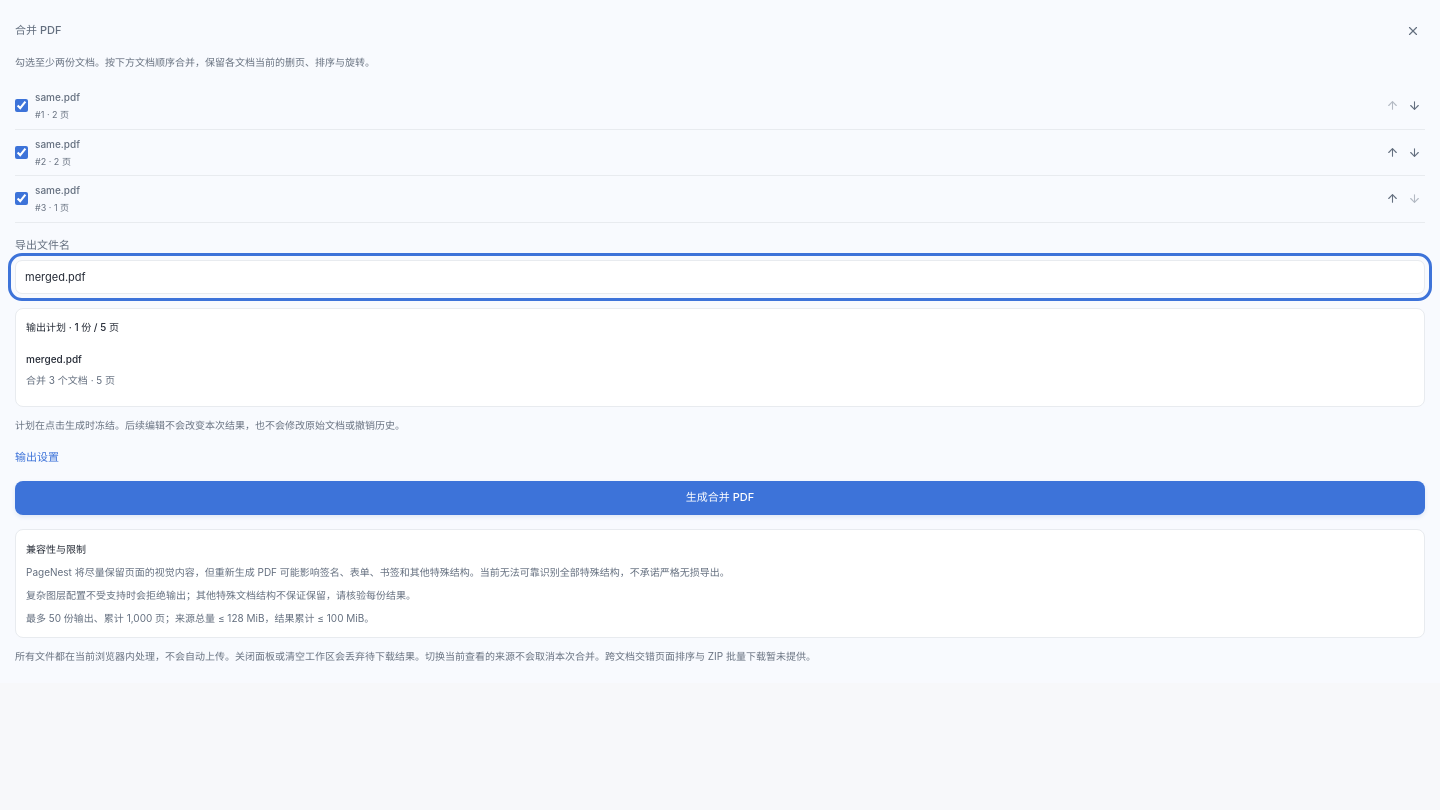
Test: PDF merge and split operation panel › previews selected same-name documents in user-defined order and keeps each current edit mapping
The width and height of the screenshot is (1440, 810).
Later steps or results of the test are not shown.
Step 1. Click the checkbox named "合并 same.pdf（文件 3）" → [22, 199], box top-left (15, 192), bottom-right (28, 205)
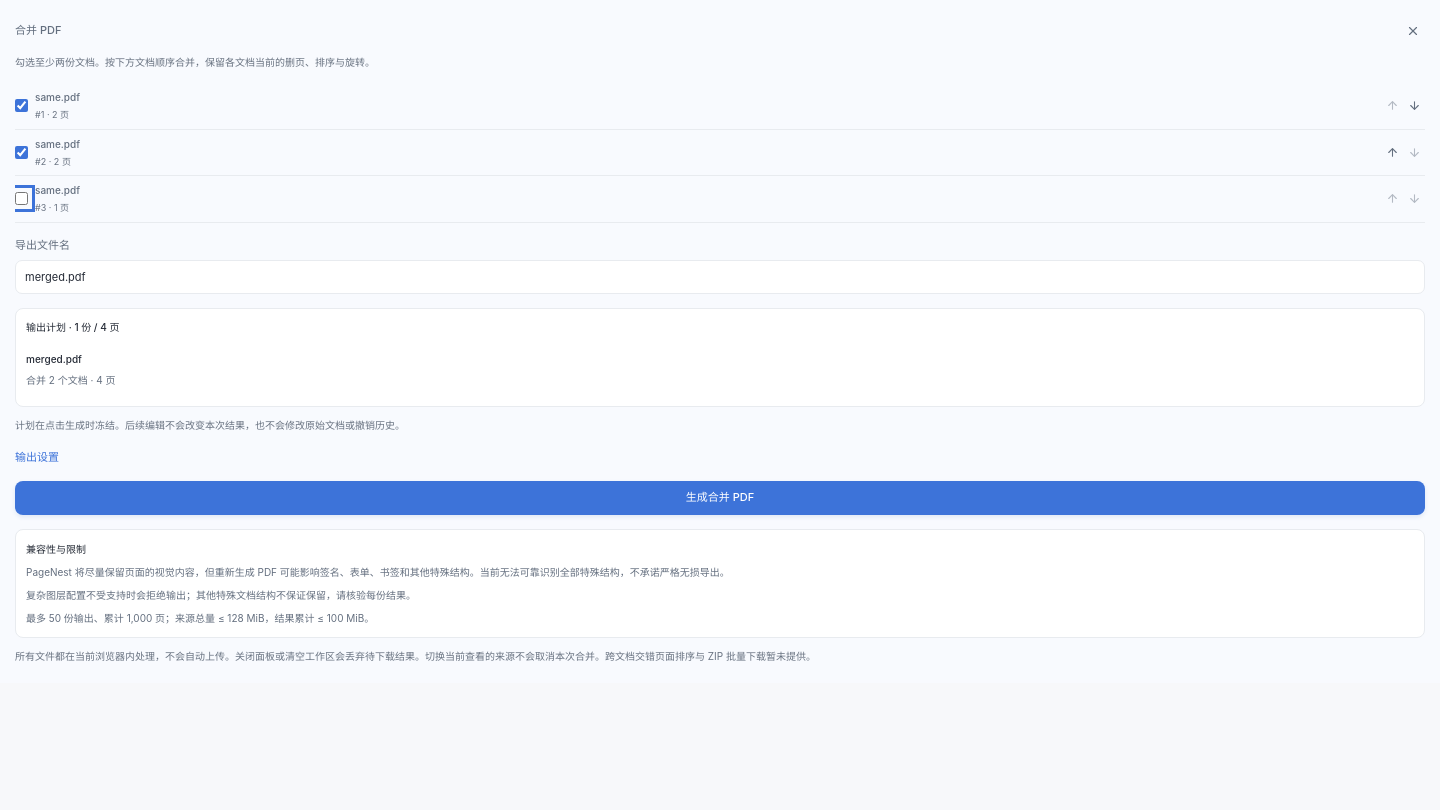
Step 2. Click the button named "same.pdf（文件 2）上移" → [1392, 152], box top-left (1381, 139), bottom-right (1403, 165)
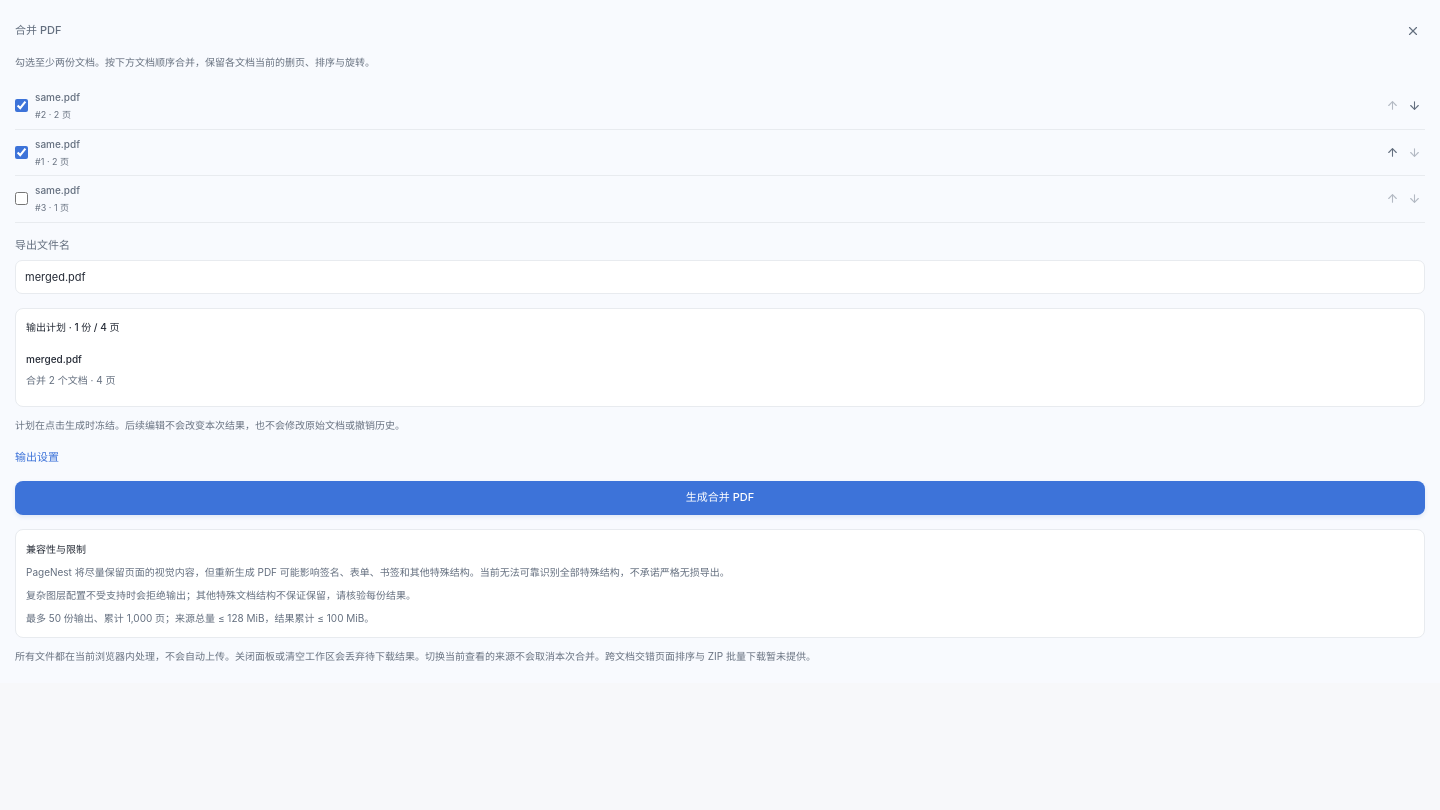
Check: the heading "输出计划 · 1 份 / 4 页" is shown, box top-left (26, 321), bottom-right (120, 333)
Step 3. Replace the text in the field labelled "导出文件名" with "merged/new?.pdf" → [720, 277], box top-left (15, 260), bottom-right (1425, 294)
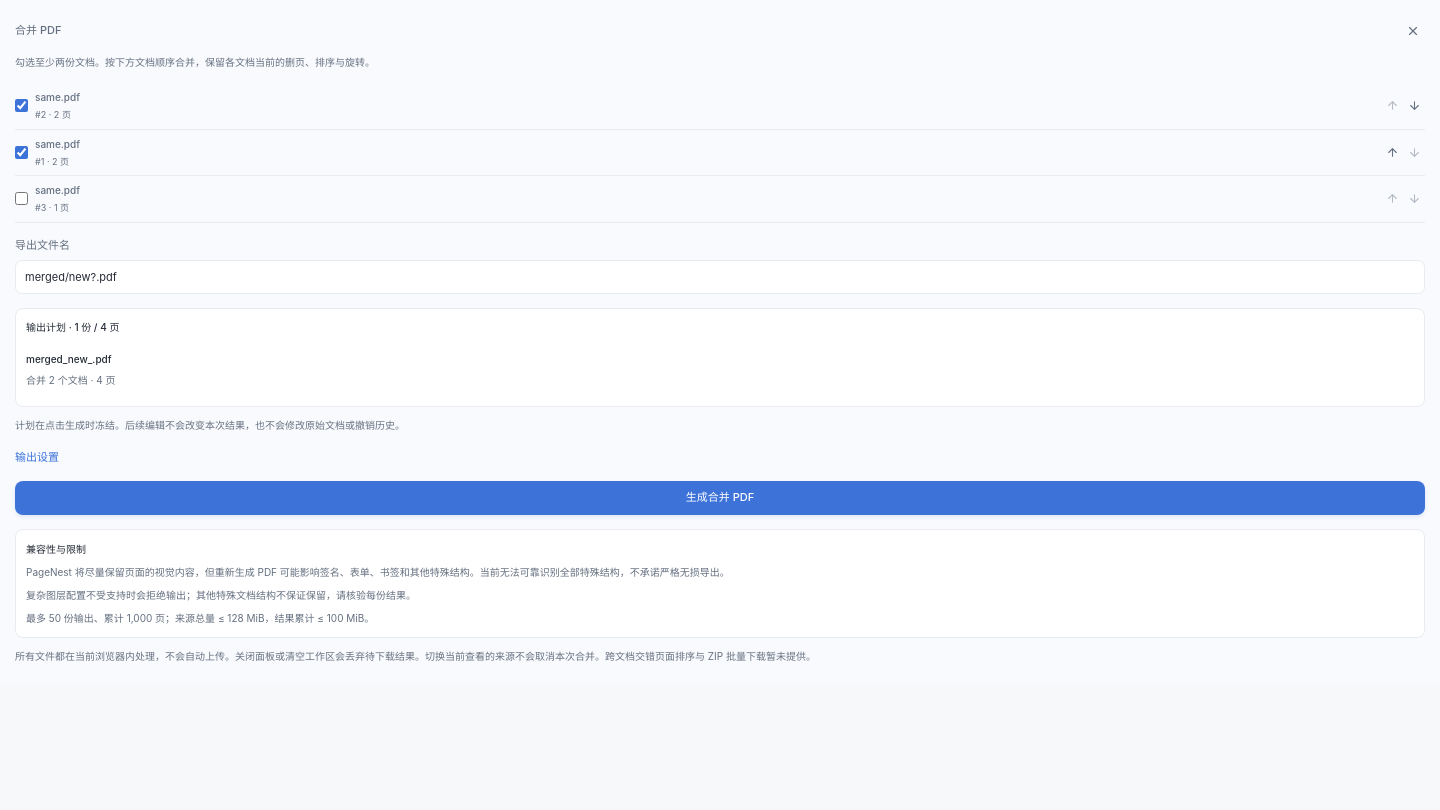
Check: the text "merged_new_.pdf" is shown, box top-left (26, 353), bottom-right (112, 365)
